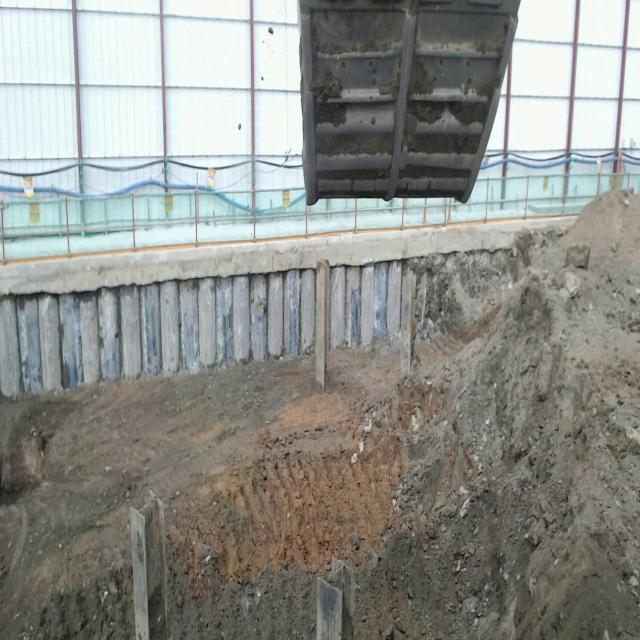cement: (0, 216, 576, 295)
red-sand: (0, 191, 640, 639)
